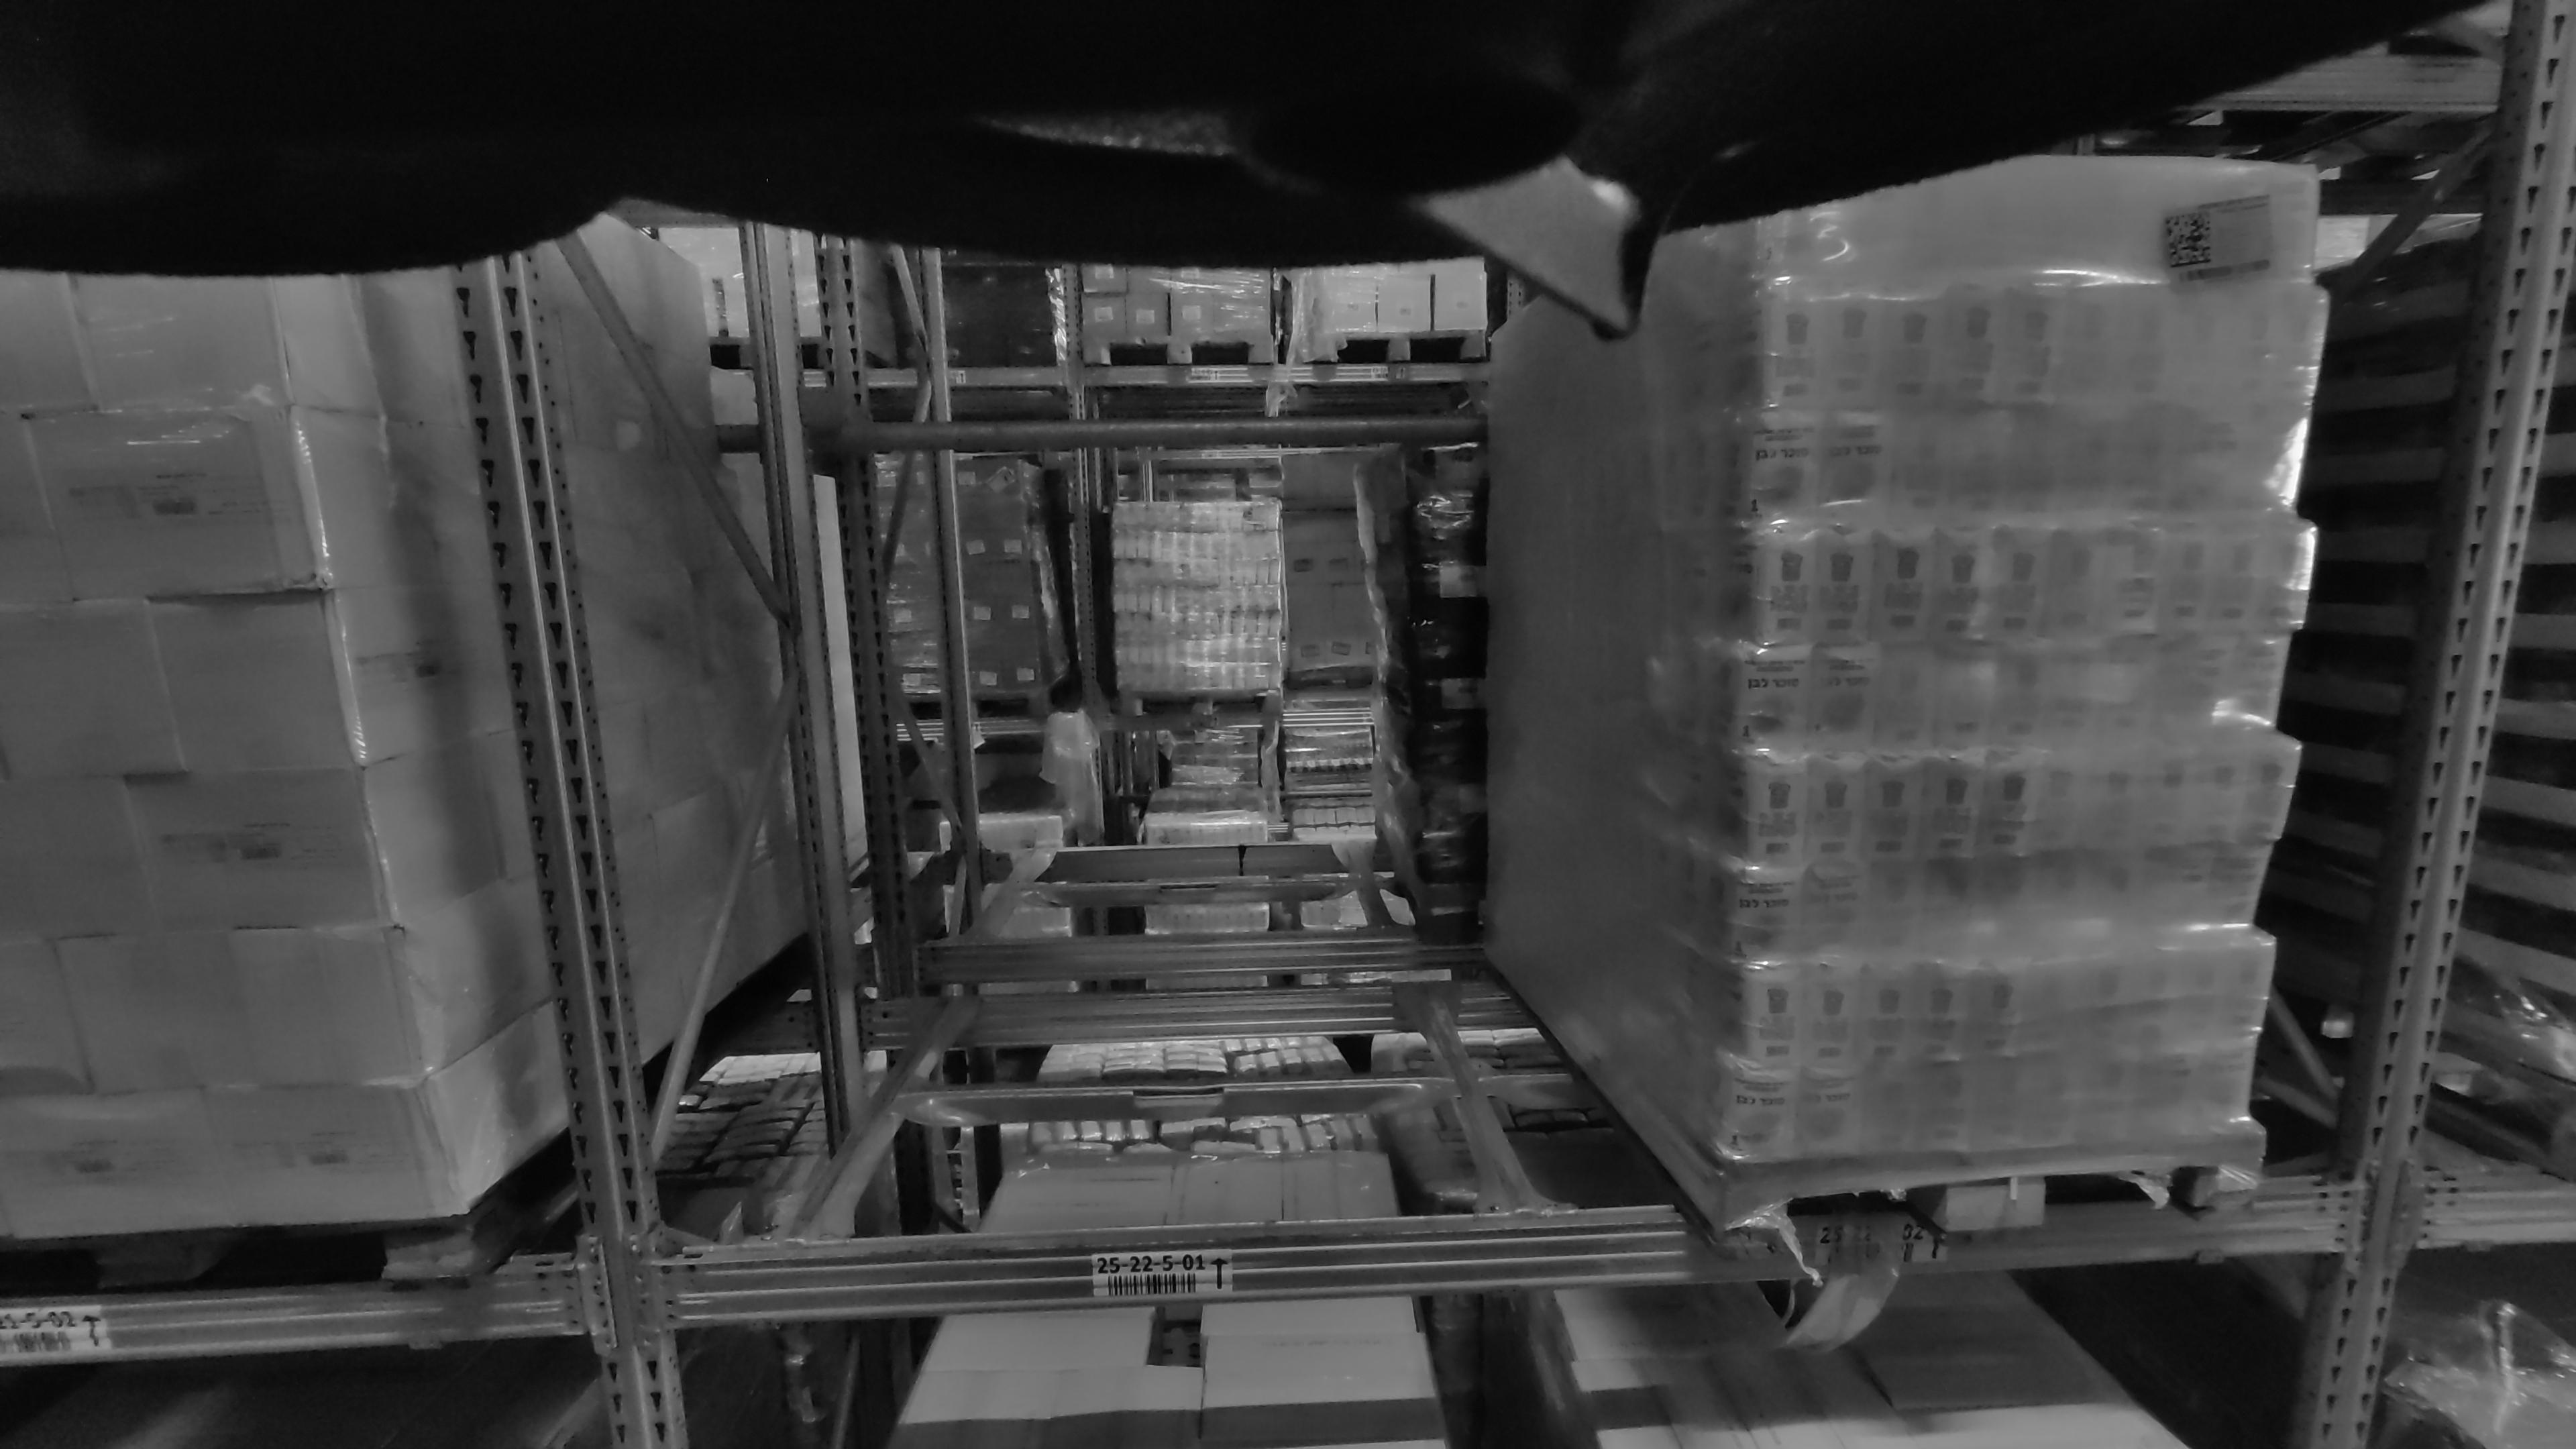empty-shelf: (841, 286, 1505, 1216), (966, 286, 1373, 930)
